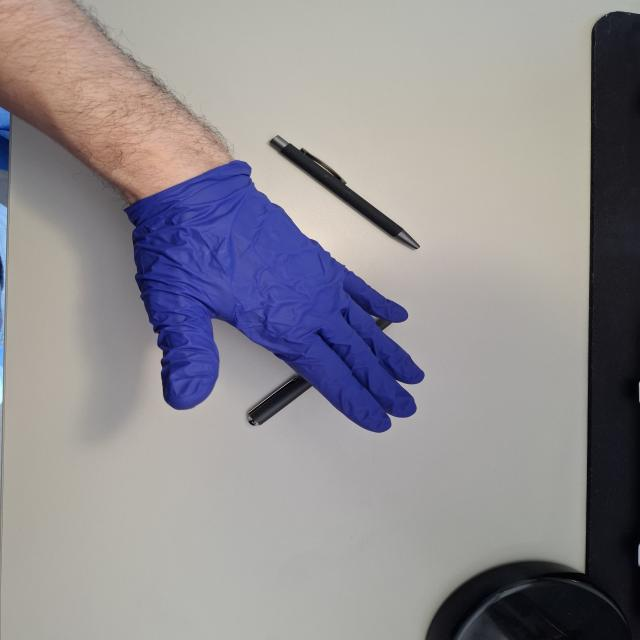glove_on: (123, 158, 430, 438)
